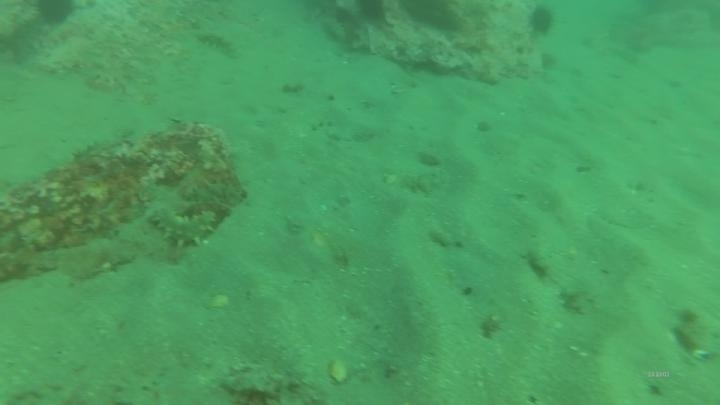echinus: (32, 0, 78, 29), (524, 4, 558, 40)
holothurian: (143, 198, 226, 252), (193, 29, 241, 60)
